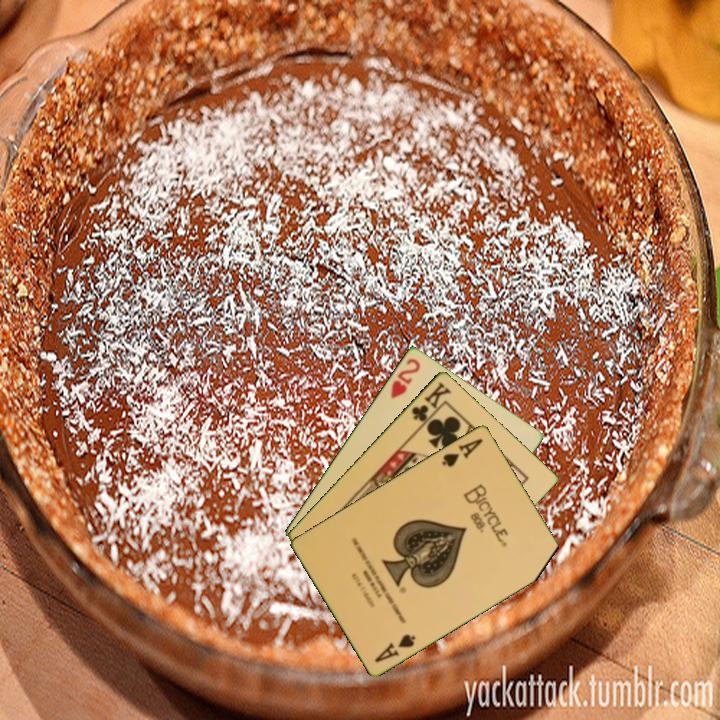2h: (387, 354, 423, 401)
As: (438, 434, 486, 469), (371, 630, 419, 665)
Kc: (408, 378, 454, 430)
